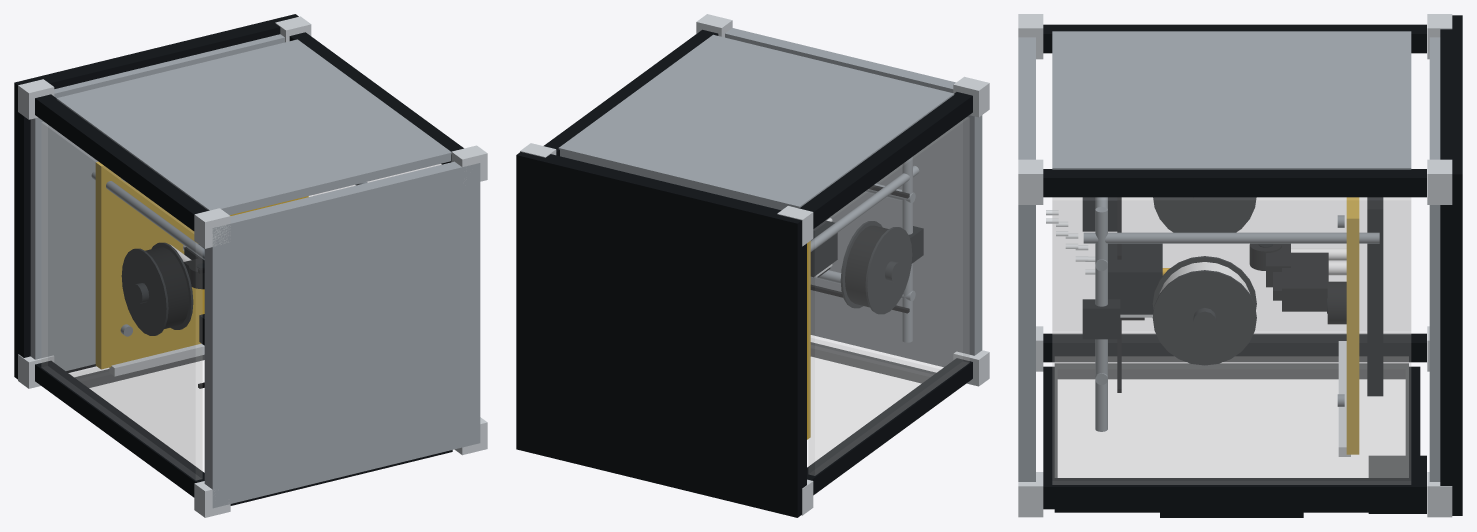
The model's file is deltrol_p2s_optimized.glb.
The picture shows the model from 3 angles, left to right: view 1: azimuth 30°, elevation 25°; view 2: azimuth 150°, elevation 25°; view 3: azimuth 270°, elevation 25°; orthographic projection. The views are drawn at different scales.
Visible parts, largest first — view 1: top_panel, left_side_panel, rear_panel, bottom_panel, build_plate, base_plinth, front_glass_door, corner_post_-0.19_-0.19, corner_post_-0.19_0.19, left_carbon_spool_flange_L, corner_post_0.19_0.19, left_carbon_spool_filament (+11 smaller); view 2: base_plinth, left_side_panel, rear_panel, top_panel, front_glass_door, corner_post_-0.19_-0.19, corner_post_-0.19_0.19, left_carbon_spool_flange_L, corner_post_0.19_0.19, door_top_rail, left_carbon_spool_filament, y_guide_left (+8 smaller); view 3: right_side_panel, rear_panel, front_glass_door, left_side_panel, corner_post_0.19_-0.19, corner_post_0.19_0.19, base_plinth, corner_post_-0.19_-0.19, right_white_spool_flange_R, top_panel, door_left_stile, bottom_panel (+28 smaller).
Boxes of the visible parts, box(x1,y1,x2,y2) form: top_panel: box(204, 161, 480, 508); left_side_panel: box(41, 122, 202, 480); rear_panel: box(56, 39, 451, 215); bottom_panel: box(30, 34, 284, 370); build_plate: box(95, 161, 308, 369); base_plinth: box(14, 14, 298, 379); front_glass_door: box(71, 355, 204, 471); corner_post_-0.19_-0.19: box(35, 360, 204, 497); corner_post_-0.19_0.19: box(35, 94, 208, 230); left_carbon_spool_flange_L: box(121, 248, 168, 335); corner_post_0.19_0.19: box(289, 32, 463, 164); left_carbon_spool_filament: box(145, 247, 188, 328); base_plinth: box(516, 152, 806, 517); left_side_panel: box(808, 117, 969, 475); rear_panel: box(558, 34, 954, 210); top_panel: box(725, 28, 982, 367); front_glass_door: box(807, 338, 939, 466); corner_post_-0.19_-0.19: box(807, 358, 972, 495); corner_post_-0.19_0.19: box(798, 92, 972, 228); left_carbon_spool_flange_L: box(865, 227, 912, 314); corner_post_0.19_0.19: box(544, 29, 718, 156); door_top_rail: box(810, 342, 935, 383); left_carbon_spool_filament: box(845, 225, 888, 307); y_guide_left: box(902, 156, 912, 342); right_side_panel: box(1052, 197, 1410, 484); rear_panel: box(1052, 31, 1411, 169); front_glass_door: box(1055, 357, 1408, 477); left_side_panel: box(1053, 198, 1410, 333); corner_post_0.19_-0.19: box(1043, 478, 1426, 506); corner_post_0.19_0.19: box(1043, 169, 1426, 197); base_plinth: box(1440, 15, 1462, 515); corner_post_-0.19_-0.19: box(1043, 333, 1426, 362); right_white_spool_flange_R: box(1152, 270, 1256, 365); top_panel: box(1018, 37, 1035, 481); door_left_stile: box(1054, 363, 1408, 379); bottom_panel: box(1429, 37, 1440, 481).
Size of the model in its own units: 0.422 by 0.443 by 0.4955.
15 materials, 15 textured.
